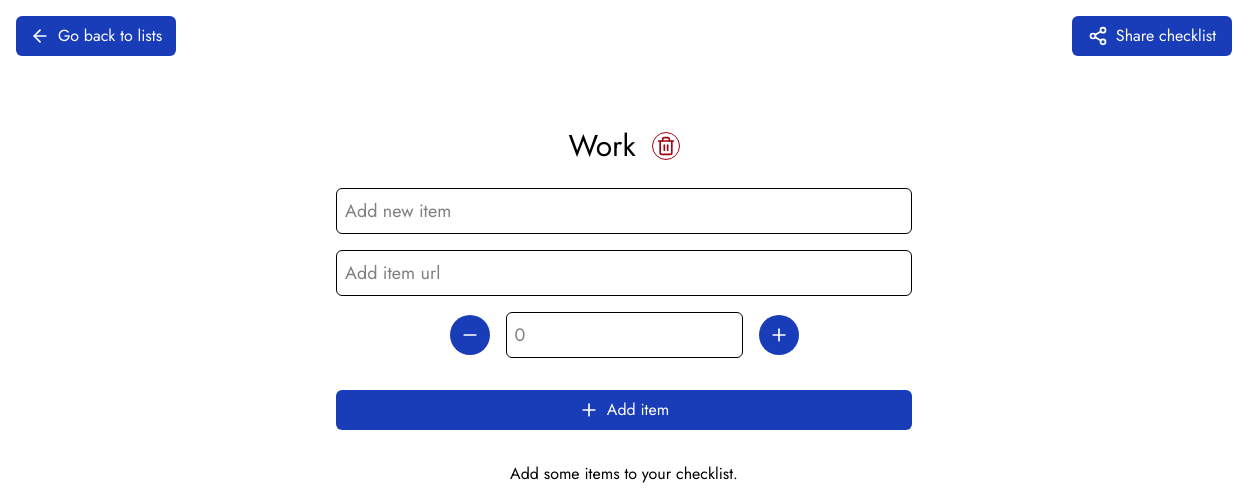
Test: Checklist › sharing the checklist URL › copies the URL to clipboard when share is unavailable
expect the heading "Work" is shown: met, box [568,128,636,164]
Click the button "Share checklist" at (1152, 36), box [1072,16,1232,56]
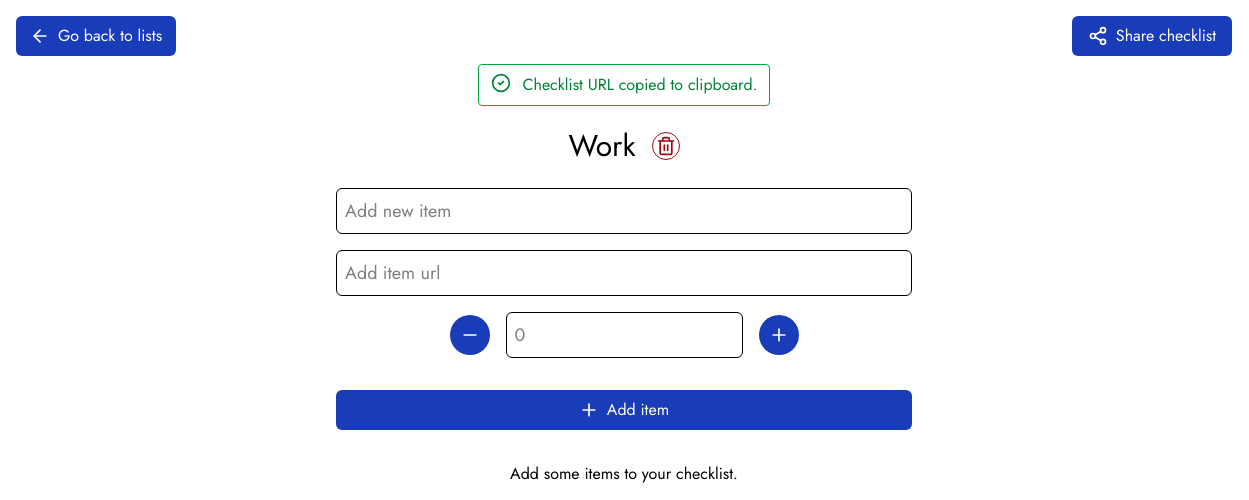
expect the text "Checklist URL copied to clipboard." is shown: met, box [478,64,770,106]
